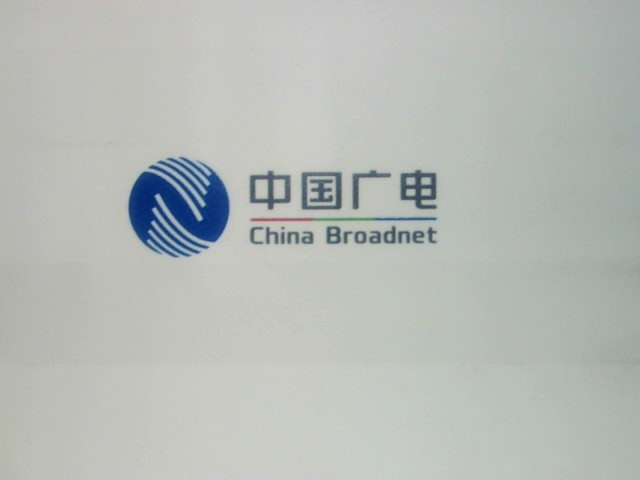AW_ChinaBroadNet: (112, 151, 454, 271)
